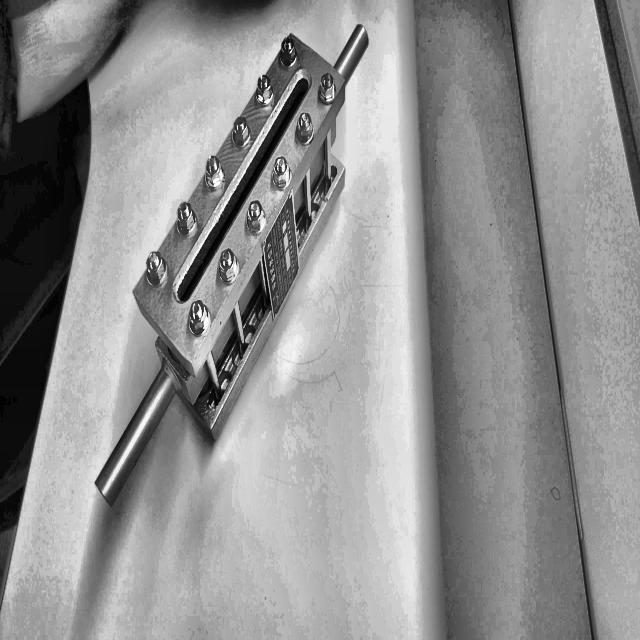ShuiWeiQi_12: (118, 8, 380, 464)
